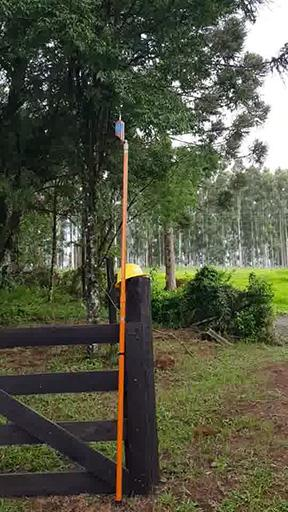Detector_Tensao_Contato: (114, 109, 126, 146)
Vara_Manobra: (113, 143, 128, 503)
